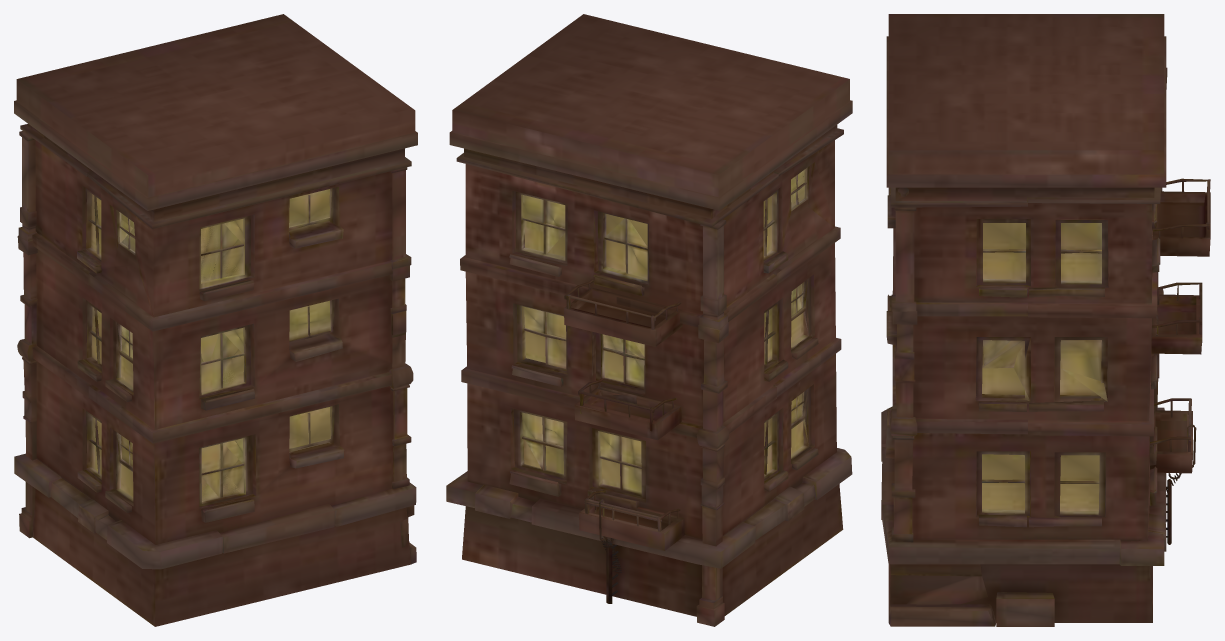
Rendered from street-facade-brick.glb.
3 views of the same model, side by side, from view 1: azimuth 30°, elevation 25°; view 2: azimuth 150°, elevation 25°; view 3: azimuth 270°, elevation 25° (orthographic). The views are drawn at different scales.
Parts seen in each view (by area): view 1: tripo_node_0560c801-52cb-45da-9870-5acdac239f59; view 2: tripo_node_0560c801-52cb-45da-9870-5acdac239f59; view 3: tripo_node_0560c801-52cb-45da-9870-5acdac239f59.
Part boxes in pixels (box(x1,y1,x2,y2)): tripo_node_0560c801-52cb-45da-9870-5acdac239f59: box(14, 14, 417, 626); tripo_node_0560c801-52cb-45da-9870-5acdac239f59: box(446, 14, 852, 626); tripo_node_0560c801-52cb-45da-9870-5acdac239f59: box(881, 14, 1210, 626).
Bounding box in the file's own units: 7.04 × 11 × 6.91.
1 material, 1 textured.
